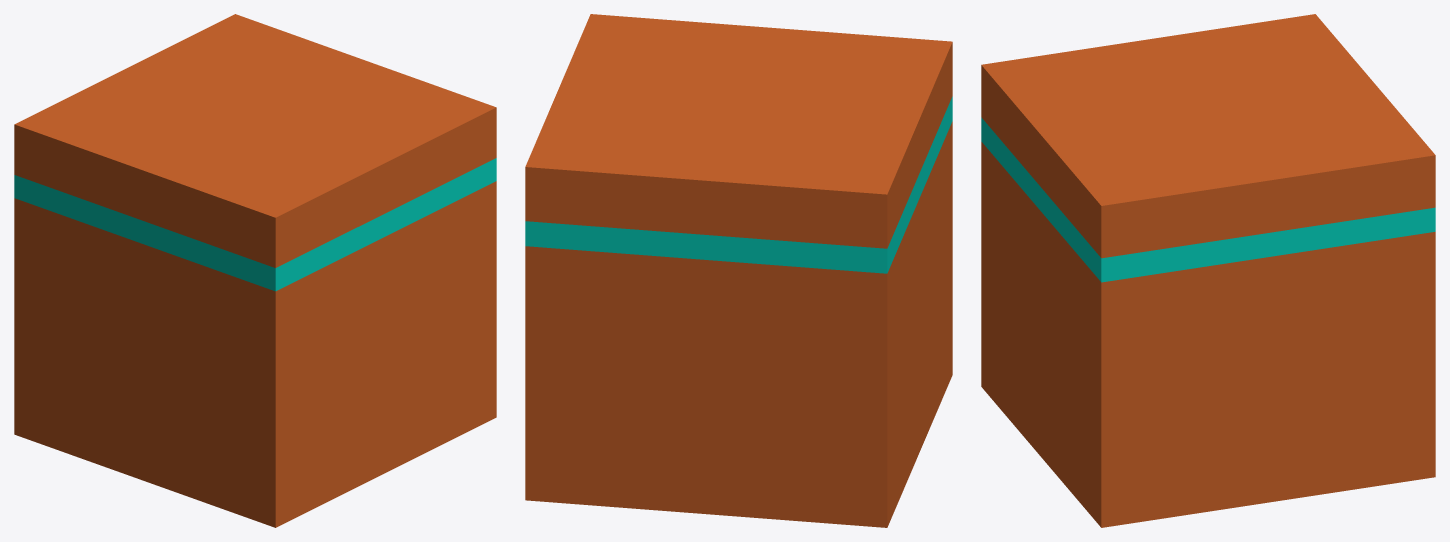
3 renders of one model, left to right at view 1: azimuth 30°, elevation 25°; view 2: azimuth 150°, elevation 25°; view 3: azimuth 270°, elevation 25°, orthographic. The views are drawn at different scales.
Visible parts, largest first — view 1: Box_1; view 2: Box_1; view 3: Box_1.
Boxes of the visible parts, x1=… form: Box_1: x1=14, y1=14, x2=496, y2=527; Box_1: x1=525, y1=14, x2=952, y2=527; Box_1: x1=981, y1=14, x2=1435, y2=527.
Bounding box in the file's own units: 63.97 × 50 × 63.97.
